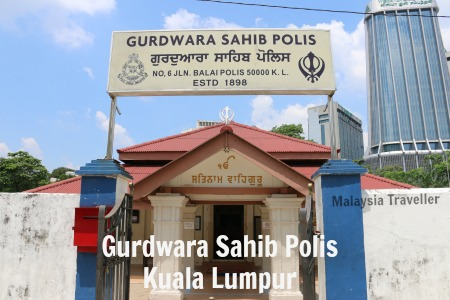Gurdwara: (88, 23, 344, 284)
